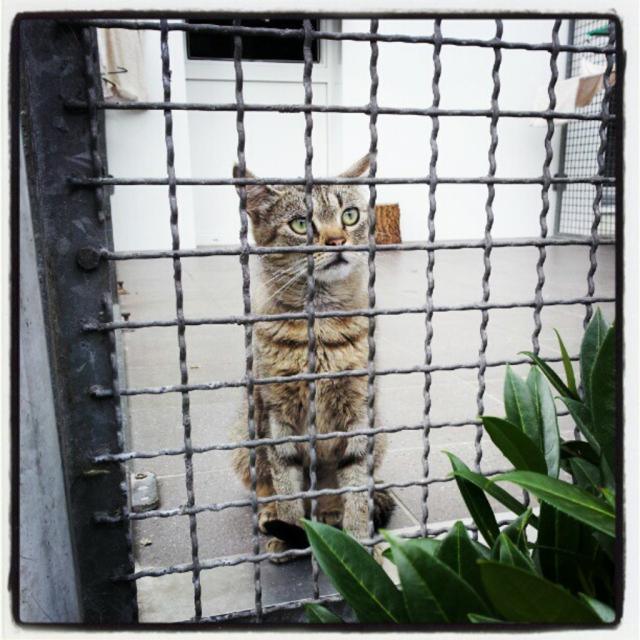Cat: (232, 154, 396, 565)
